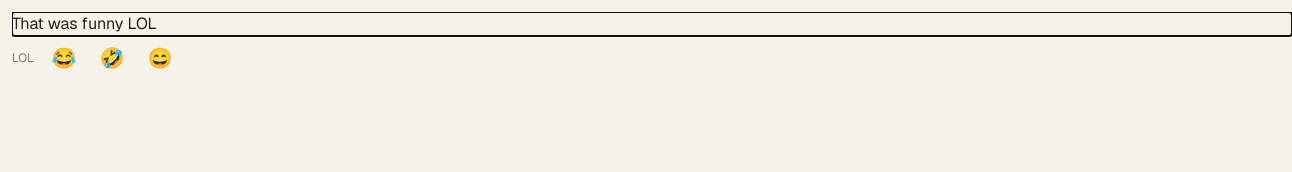
Test case: shared writing integration › renders selectable LOL choices, keeps text until selection, and inserts the chosen emoji
The width and height of the screenshot is (1292, 172).
Click the button "😂" at (64, 58), box [42,36,86,80]
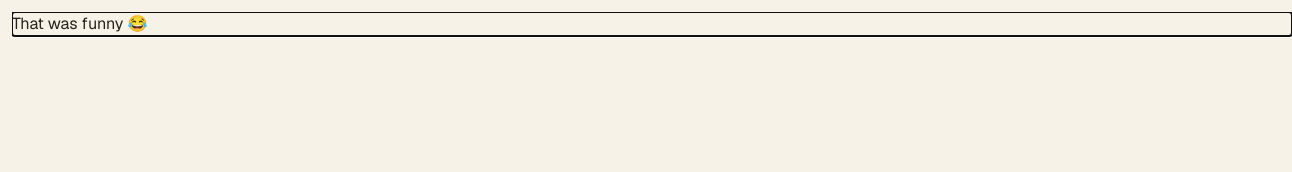
Now the text "That was funny 😂" is shown, box [12,13,147,34]
